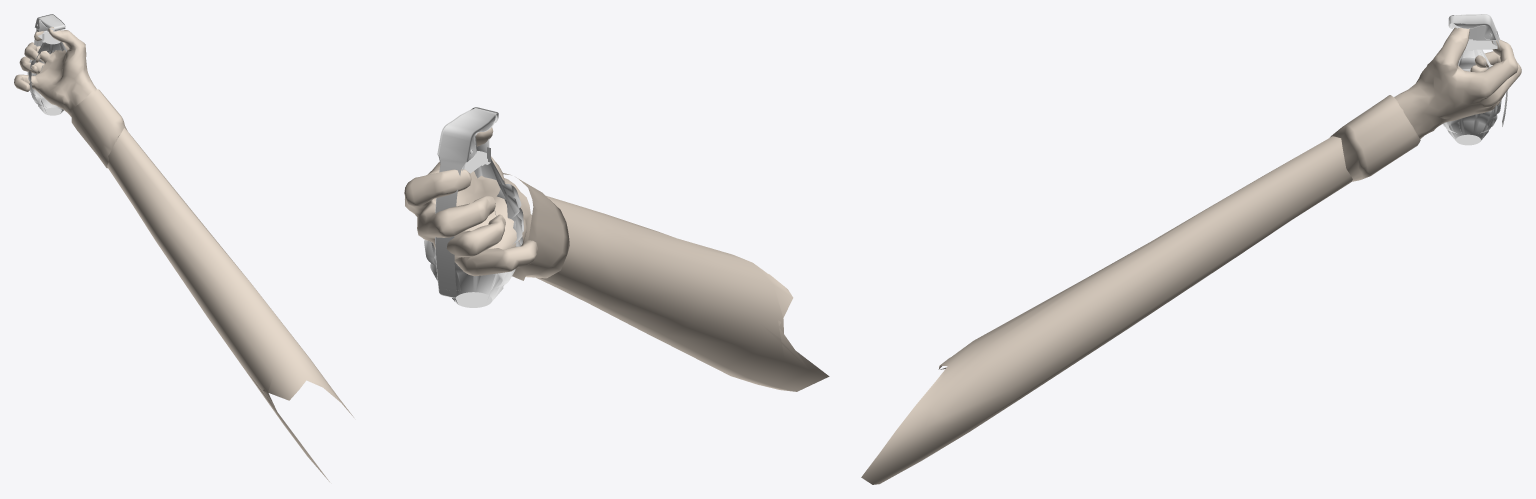
Rendered from he_pequena.glb.
3 renders of one model, left to right at view 1: azimuth 30°, elevation 25°; view 2: azimuth 150°, elevation 25°; view 3: azimuth 270°, elevation 25°, orthographic. The views are drawn at different scales.
Parts seen in each view (by area): view 1: char, body; view 2: char, body; view 3: char, body.
Boxes of the visible parts, x1,y1,x2,y2 form: char: (14, 27, 353, 481); body: (27, 14, 66, 115); char: (404, 127, 829, 391); body: (424, 107, 523, 307); char: (861, 27, 1521, 484); body: (1443, 14, 1507, 145).
Bounding box in the file's own units: 0.239 × 0.555 × 0.791.
